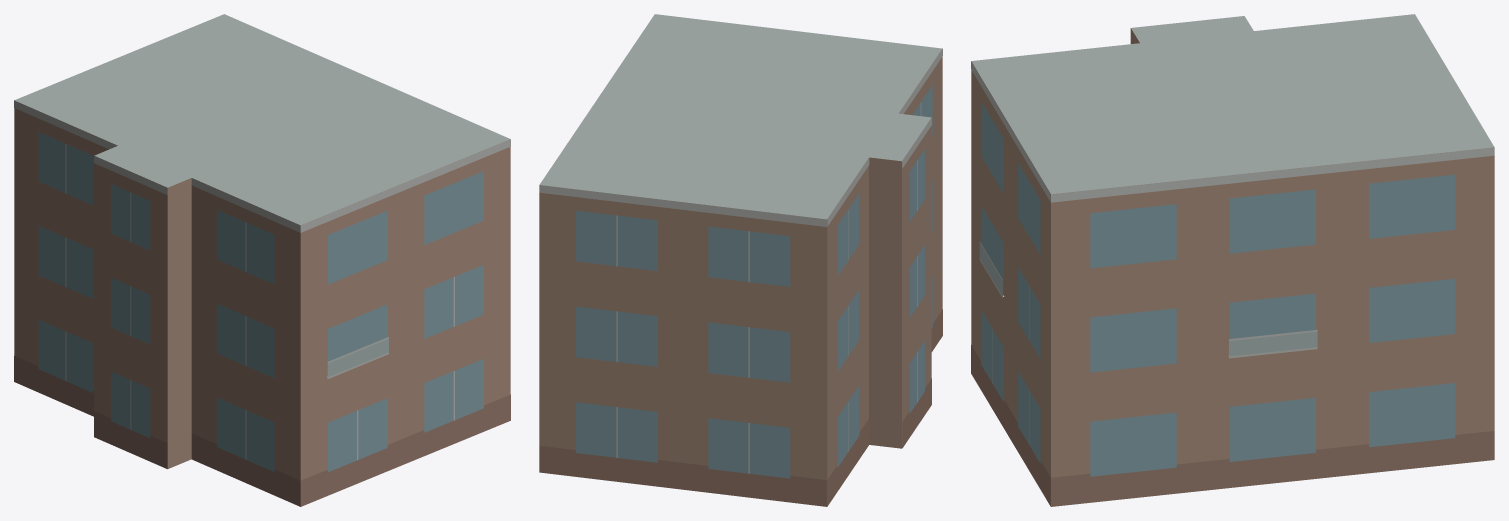
File: survey-upis-32981482.glb
3 renders of one model, left to right at view 1: azimuth 30°, elevation 25°; view 2: azimuth 150°, elevation 25°; view 3: azimuth 270°, elevation 25°, orthographic. The views are drawn at different scales.
Parts seen in each view (by area): view 1: survey-upis-32981482.tmp; view 2: survey-upis-32981482.tmp; view 3: survey-upis-32981482.tmp.
Part boxes in pixels (x1,y1,x2,y2): survey-upis-32981482.tmp: (14, 14, 510, 506); survey-upis-32981482.tmp: (539, 14, 942, 506); survey-upis-32981482.tmp: (971, 14, 1494, 506).
Size of the model in its own units: 11.33 by 9.15 by 13.9.
